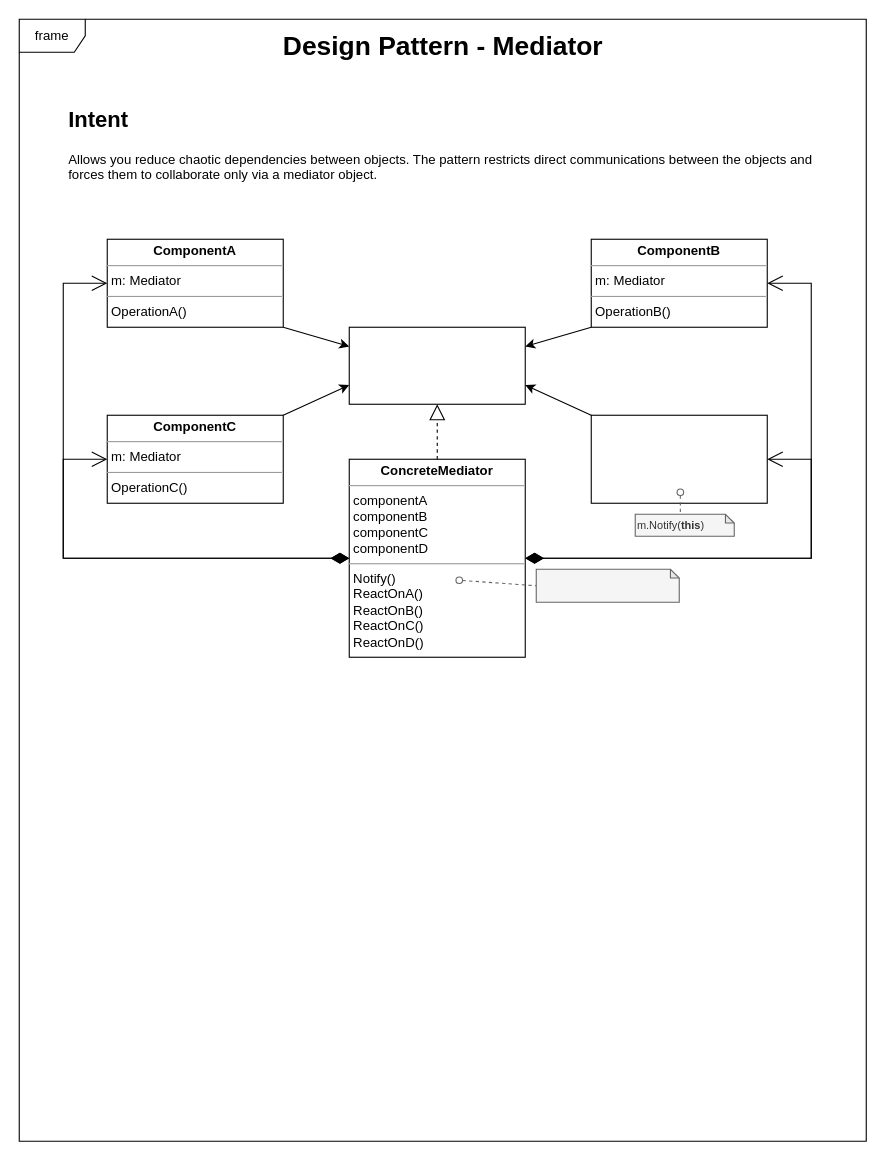
Some shapes in this 886 by 1161 pixel diagram are drawn without their labels. Here are the shapes that lost their labels. From the top down, the centre of each, then its label:
At (436,365): "<<Interface>> Mediator Notify(sender)".
At (678,458): "ComponentD m: Mediator OperationD()".
At (607,585): "if (sender == componentA) ReactOnA()".
